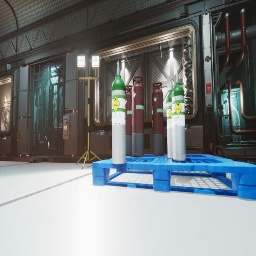0: (112, 60, 126, 164), (172, 69, 186, 161), (166, 78, 173, 159)
EmergencyPhone ,: (16, 130, 20, 140)
FireAlarm ,: (206, 83, 211, 94)
NitrogenTank ,: (132, 75, 144, 157), (152, 82, 164, 156), (125, 85, 133, 156)
SafetySwitchPanel ,: (63, 115, 71, 139)
